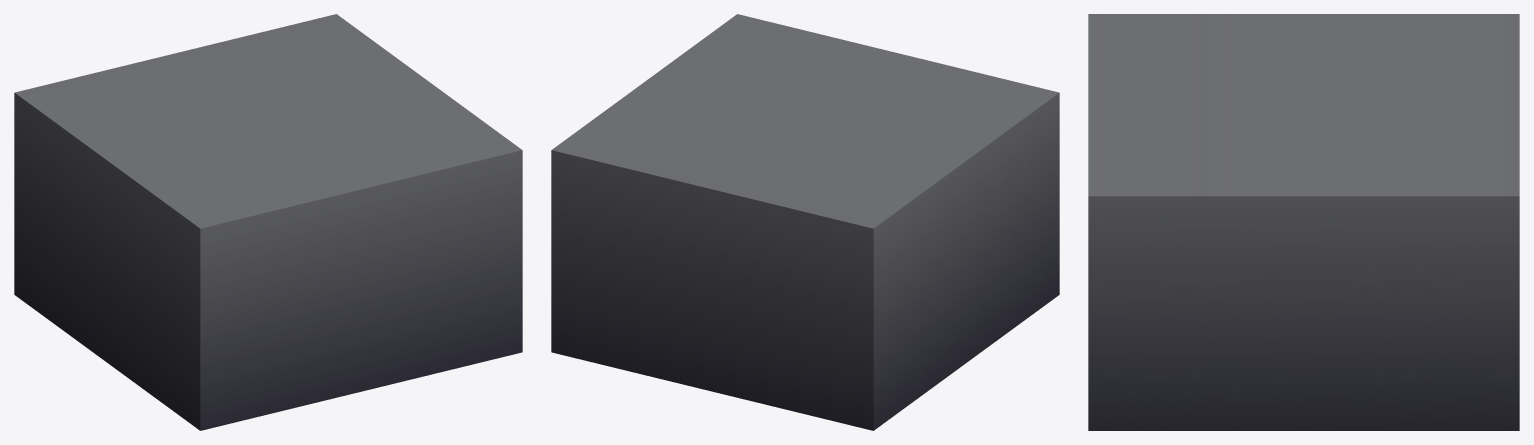
3 views of the same model, side by side, from view 1: azimuth 30°, elevation 25°; view 2: azimuth 150°, elevation 25°; view 3: azimuth 270°, elevation 25° (orthographic). The views are drawn at different scales.
Parts seen in each view (by area): view 1: Cube.005; view 2: Cube.005; view 3: Cube.005.
Part boxes in pixels (x1,y1,x2,y2): Cube.005: (14, 14, 522, 430); Cube.005: (551, 14, 1059, 430); Cube.005: (1088, 14, 1519, 430).
Bounding box in the file's own units: 5 × 3 × 5.
